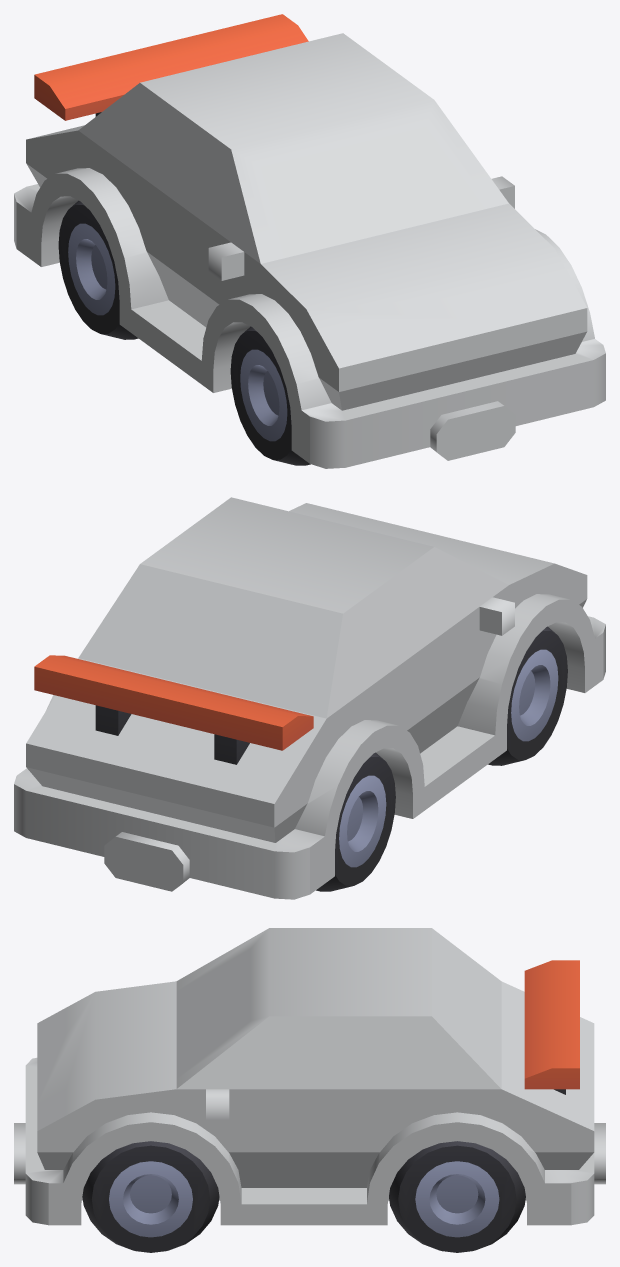
Rendered from stratos.glb.
3 renders of one model, top to bottom at view 1: azimuth 30°, elevation 25°; view 2: azimuth 150°, elevation 25°; view 3: azimuth 270°, elevation 25°, orthographic. The views are drawn at different scales.
Visible parts, largest first — view 1: body, spoiler, wheel-back-right, wheel-front-right; view 2: body, spoiler, wheel-back-right, wheel-front-right; view 3: body, wheel-back-left, wheel-front-left, spoiler.
Part boxes in pixels (x1=…): body: x1=14, y1=33, x2=605, y2=468; spoiler: x1=34, y1=14, x2=308, y2=120; wheel-back-right: x1=58, y1=200, x2=138, y2=339; wheel-front-right: x1=230, y1=326, x2=310, y2=465; body: x1=14, y1=497, x2=605, y2=899; spoiler: x1=34, y1=655, x2=313, y2=764; wheel-back-right: x1=316, y1=752, x2=395, y2=891; wheel-front-right: x1=488, y1=626, x2=567, y2=765; body: x1=14, y1=928, x2=605, y2=1225; wheel-back-left: x1=389, y1=1141, x2=525, y2=1252; wheel-front-left: x1=82, y1=1141, x2=219, y2=1252; spoiler: x1=524, y1=960, x2=579, y2=1094.
Bounding box in the file's own units: 1.3 × 1.1 × 2.55.
Materials: 2 (1 with a texture image).
